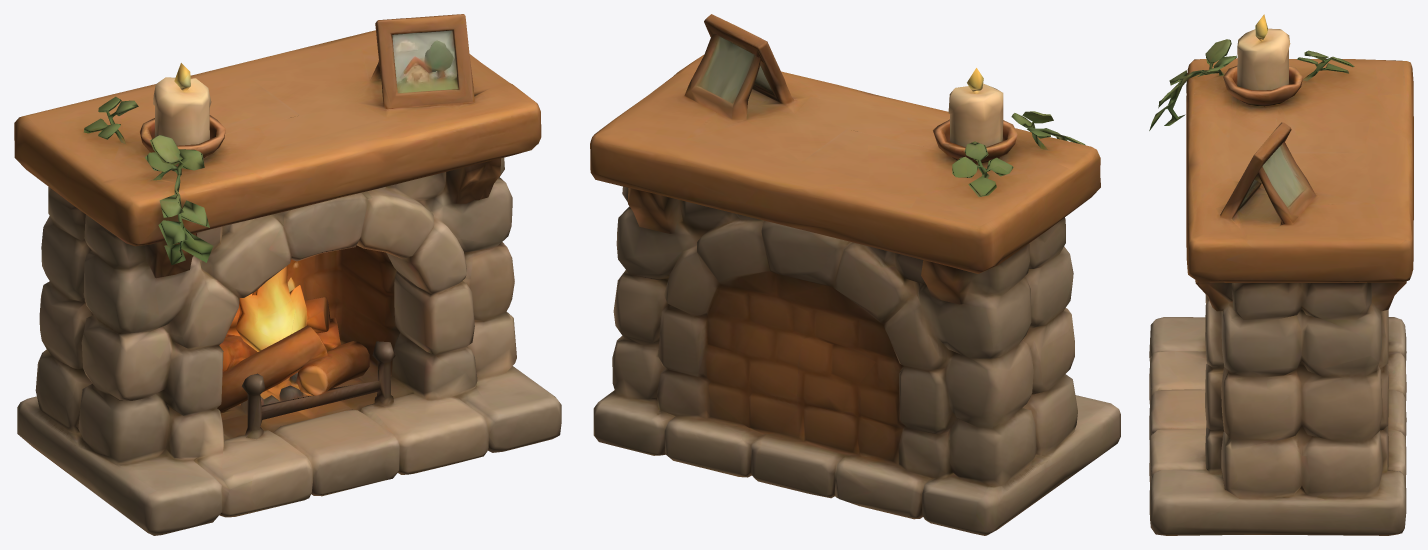
The model's file is fireplace.glb.
3 views of the same model, side by side, from view 1: azimuth 30°, elevation 25°; view 2: azimuth 150°, elevation 25°; view 3: azimuth 270°, elevation 25° (orthographic). The views are drawn at different scales.
Parts seen in each view (by area): view 1: tripo_node_b9dd431f-a11d-4215-a9b5-b079f04dcca7; view 2: tripo_node_b9dd431f-a11d-4215-a9b5-b079f04dcca7; view 3: tripo_node_b9dd431f-a11d-4215-a9b5-b079f04dcca7.
Part boxes in pixels (x1,y1,x2,y2): tripo_node_b9dd431f-a11d-4215-a9b5-b079f04dcca7: (14,14,561,535); tripo_node_b9dd431f-a11d-4215-a9b5-b079f04dcca7: (590,14,1120,535); tripo_node_b9dd431f-a11d-4215-a9b5-b079f04dcca7: (1149,14,1413,535).
Size of the model in its own units: 0.9802 by 0.9263 by 0.5844.
1 material, 1 textured.
